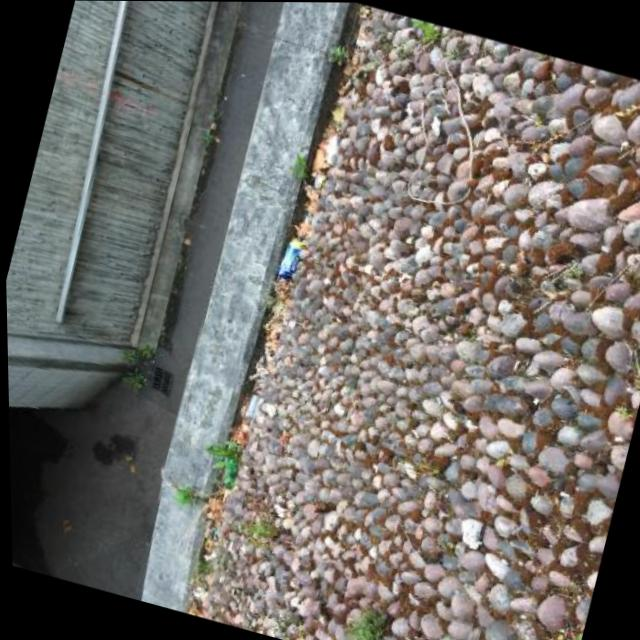plastic: (274, 231, 309, 282), (237, 390, 265, 428), (216, 451, 244, 489)
